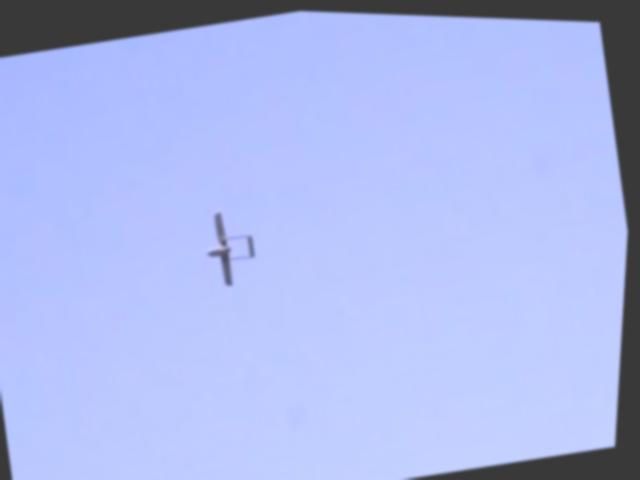uav: (199, 200, 269, 291)
